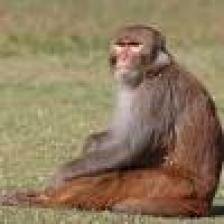monkey: (15, 16, 221, 206)
